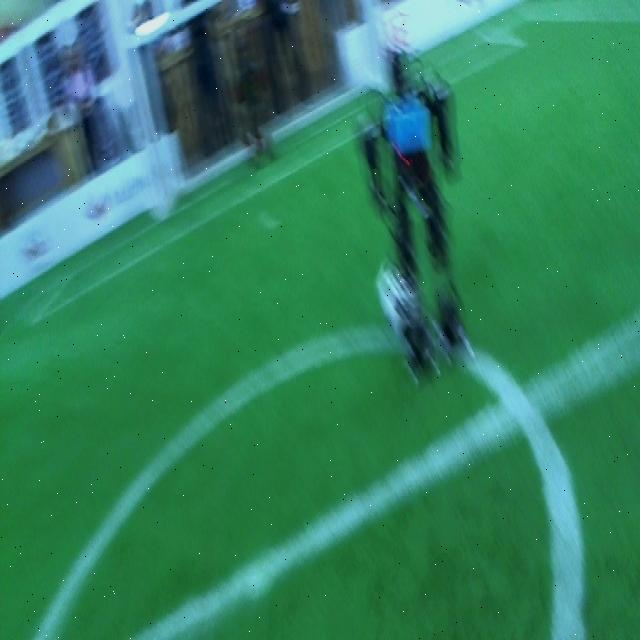ball: (384, 265, 406, 325)
goalpost: (126, 32, 176, 208)
